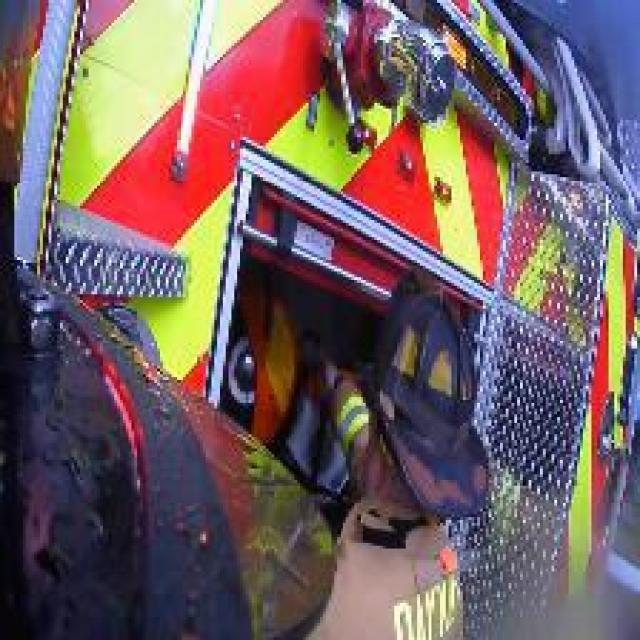other: (81, 1, 519, 254)
